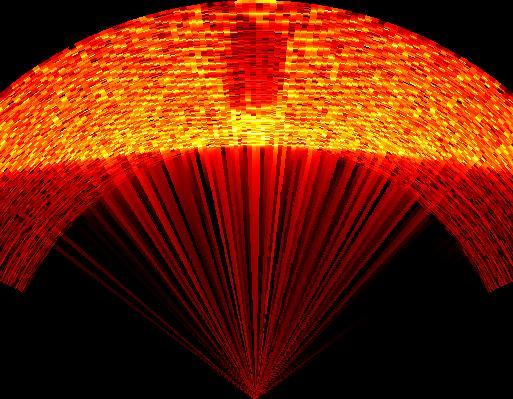box_crate: (218, 9, 294, 116)
